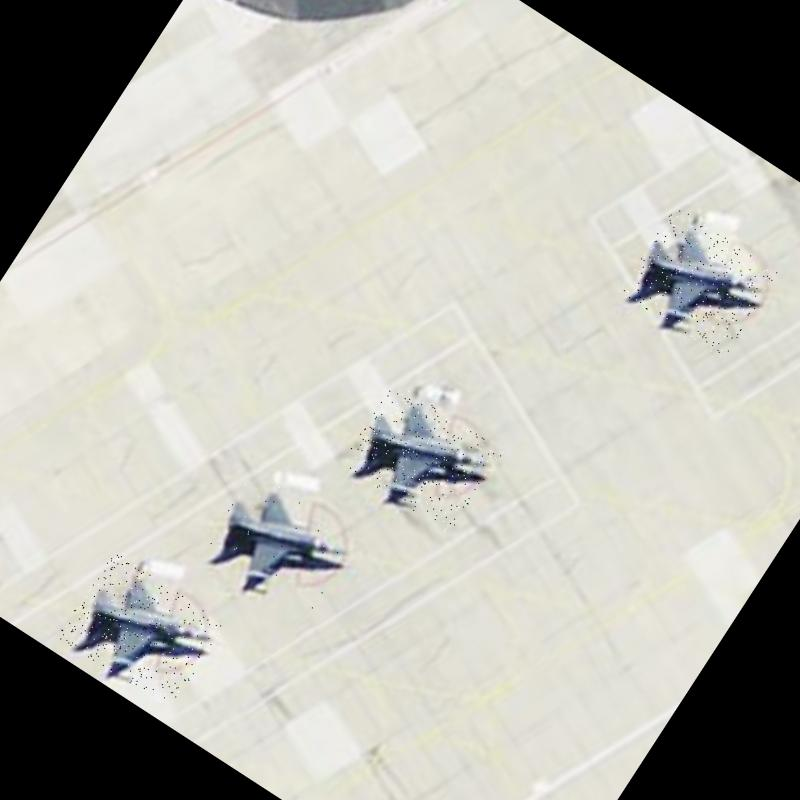A5: (57, 551, 226, 711), (340, 381, 504, 536), (198, 465, 362, 618), (620, 206, 780, 360)
